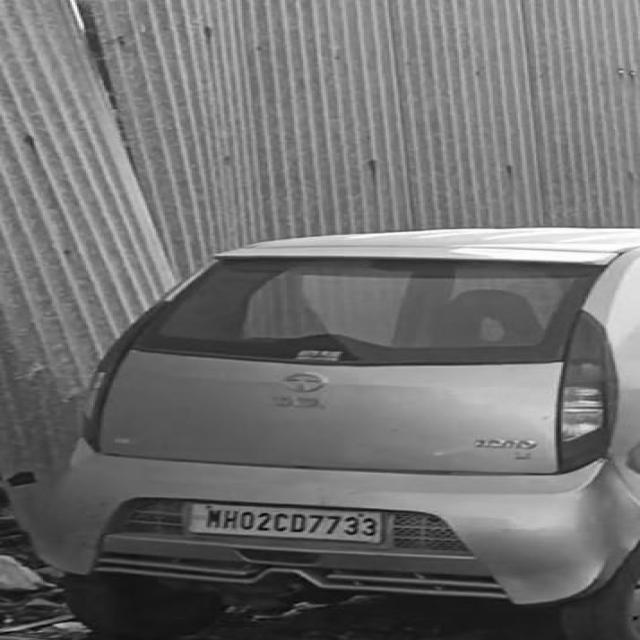car: (36, 212, 640, 635)
license-plate: (190, 510, 394, 548)
